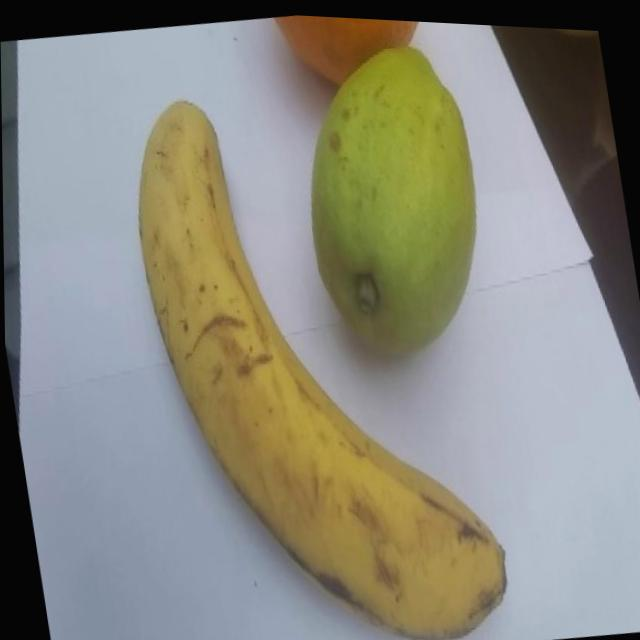Banana: (118, 60, 518, 640)
Orange: (274, 11, 434, 94)
